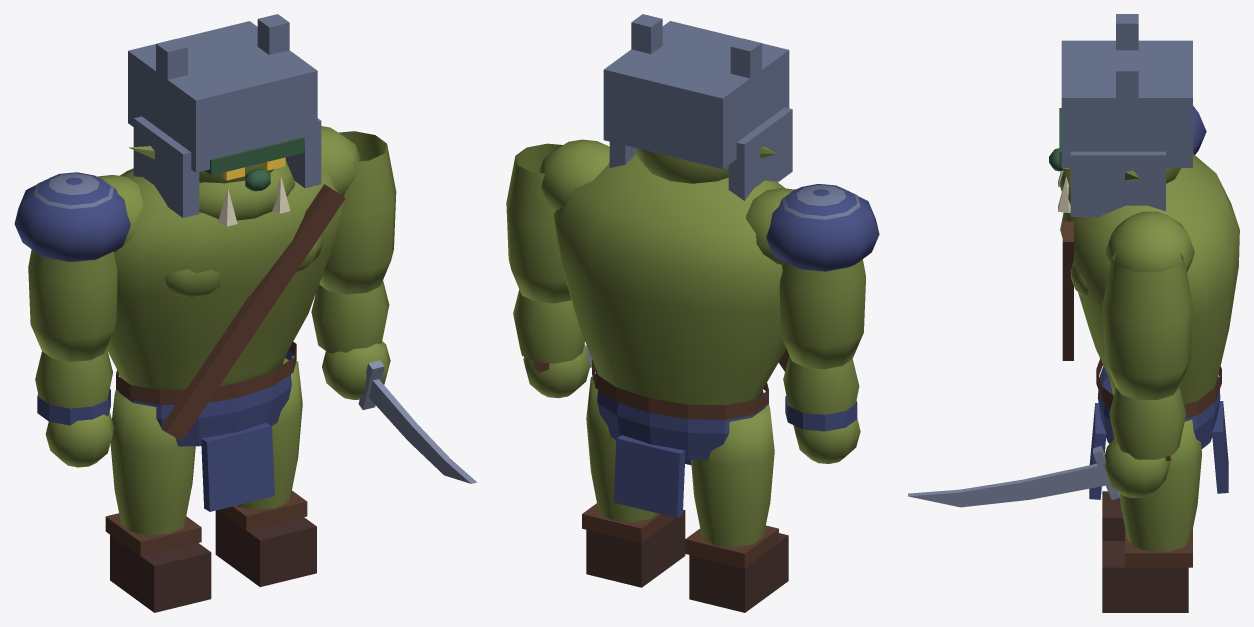
File: orc_grunt.glb
The picture shows the model from 3 angles, left to right: view 1: azimuth 30°, elevation 25°; view 2: azimuth 150°, elevation 25°; view 3: azimuth 270°, elevation 25°; orthographic projection. The views are drawn at different scales.
Visible parts, largest first — view 1: Body, Head, ArmL, ArmR, LegL, LegR; view 2: Body, Head, ArmL, LegL, ArmR, LegR; view 3: Body, Head, ArmR, LegR, LegL.
Part boxes in pixels (x1,y1,x2,y2): Body: (97, 126, 361, 511); Head: (128, 14, 321, 226); ArmL: (14, 172, 130, 467); ArmR: (311, 131, 476, 483); LegL: (105, 389, 211, 612); LegR: (215, 358, 316, 586); Body: (538, 139, 794, 517); Head: (603, 14, 792, 200); ArmL: (766, 184, 879, 463); LegL: (685, 404, 788, 612); ArmR: (506, 143, 592, 398); LegR: (582, 376, 685, 587); Body: (1060, 152, 1239, 499); Head: (1049, 14, 1192, 216); ArmR: (908, 251, 1192, 507); LegR: (1102, 419, 1201, 612); LegL: (1102, 491, 1124, 540).
Size of the model in its own units: 1.8 by 2.59 by 1.46.
